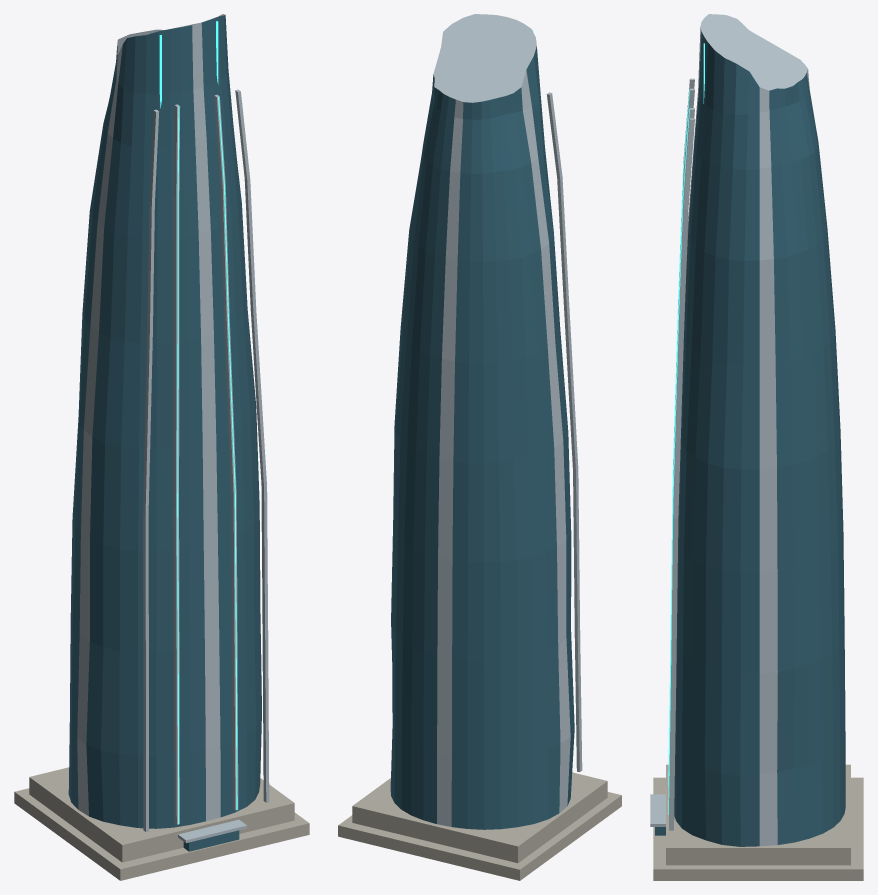
File: Atlantis_TheSpire_v1.glb
3 renders of one model, left to right at view 1: azimuth 30°, elevation 25°; view 2: azimuth 150°, elevation 25°; view 3: azimuth 270°, elevation 25°, orthographic. The views are drawn at different scales.
Parts seen in each view (by area): view 1: TheSpire_GeneratedShaft, TheSpire_PodiumUpper, TheSpire_PodiumLower, TheSpire_VerticalFin_3, TheSpire_VerticalFin_0, TheSpire_VerticalFin_1, TheSpire_VerticalFin_2, TheSpire_Accent_1, TheSpire_Accent_2, TheSpire_EntranceCanopy; view 2: TheSpire_GeneratedShaft, TheSpire_PodiumUpper, TheSpire_PodiumLower, TheSpire_VerticalFin_0; view 3: TheSpire_GeneratedShaft, TheSpire_PodiumUpper, TheSpire_PodiumLower, TheSpire_VerticalFin_3, TheSpire_Accent_2, TheSpire_Accent_1, TheSpire_VerticalFin_2, TheSpire_EntranceCanopy.
Part boxes in pixels (box(x1,y1,x2,y2)): TheSpire_GeneratedShaft: box(68, 14, 261, 828); TheSpire_PodiumUpper: box(29, 767, 294, 862); TheSpire_PodiumLower: box(14, 788, 309, 880); TheSpire_VerticalFin_3: box(235, 89, 269, 802); TheSpire_VerticalFin_0: box(143, 109, 158, 831); TheSpire_VerticalFin_1: box(173, 104, 180, 824); TheSpire_VerticalFin_2: box(214, 94, 238, 810); TheSpire_Accent_1: box(177, 106, 179, 824); TheSpire_Accent_2: box(218, 97, 237, 810); TheSpire_EntranceCanopy: box(178, 819, 247, 842); TheSpire_GeneratedShaft: box(390, 14, 574, 829); TheSpire_PodiumUpper: box(352, 772, 607, 863); TheSpire_PodiumLower: box(338, 792, 621, 880); TheSpire_VerticalFin_0: box(546, 92, 582, 772); TheSpire_GeneratedShaft: box(674, 14, 845, 846); TheSpire_PodiumUpper: box(666, 764, 850, 865); TheSpire_PodiumLower: box(653, 777, 863, 880); TheSpire_VerticalFin_3: box(669, 118, 694, 830); TheSpire_Accent_2: box(668, 108, 689, 814); TheSpire_Accent_1: box(668, 89, 689, 786); TheSpire_VerticalFin_2: box(669, 108, 694, 811); TheSpire_EntranceCanopy: box(650, 794, 665, 826).
Size of the model in its own units: 68 by 280 by 67.
